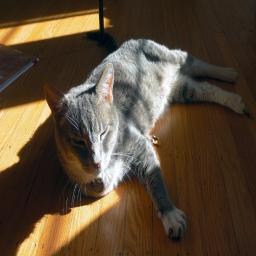catnose: (90, 160, 102, 171)
